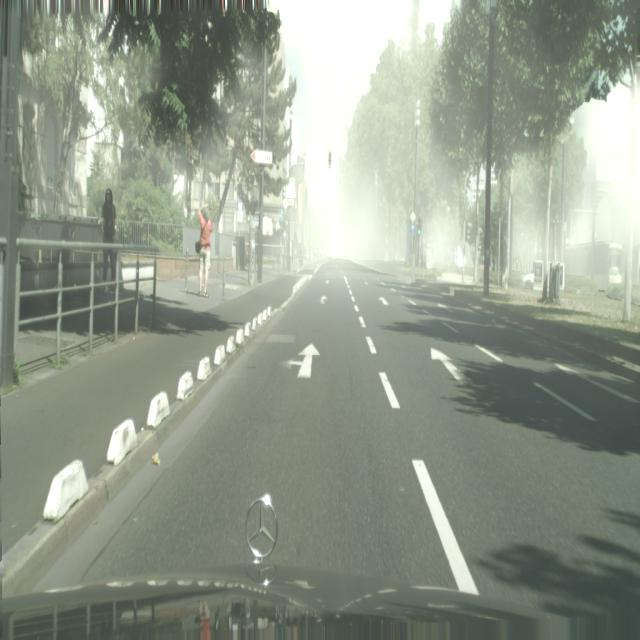person: (101, 188, 117, 284), (197, 203, 212, 298)
